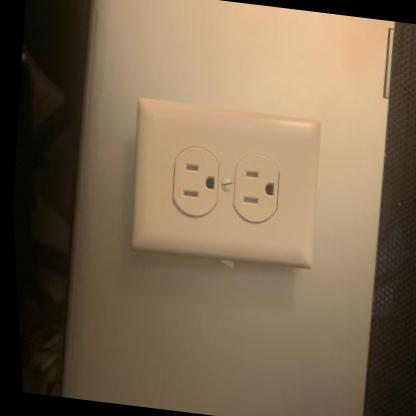OUTLET: (116, 94, 333, 275)
